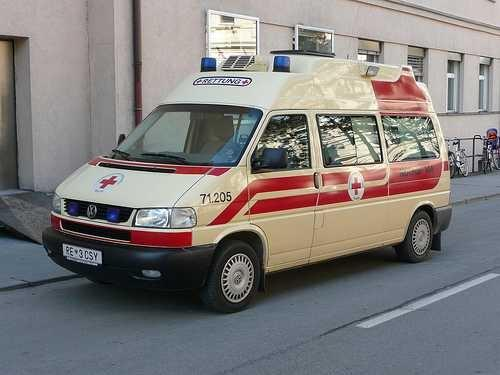car: (41, 49, 453, 312)
